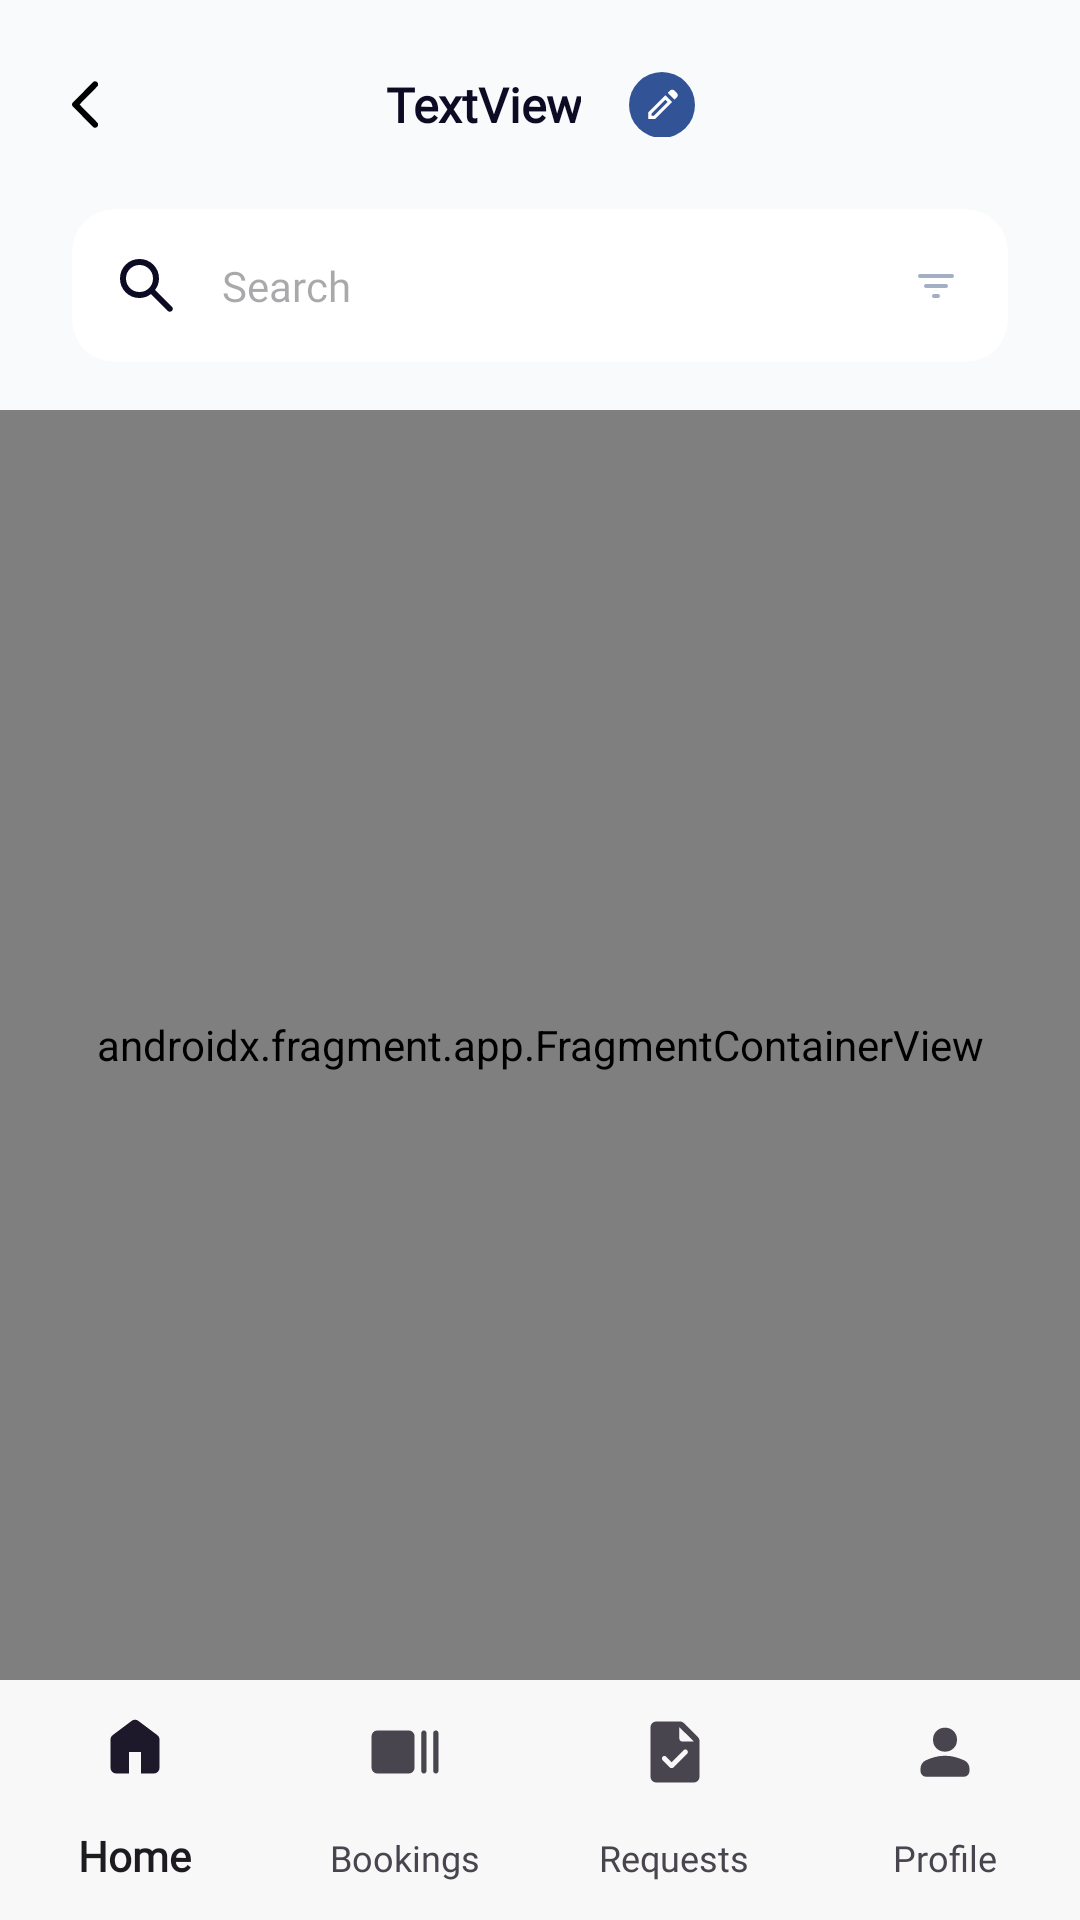

Where to tap for icons on this 1080 × 1920 app screen, as (x=x, y=y):
back: (x=85, y=104)
edit round: (x=662, y=104)
filter: (x=936, y=286)
